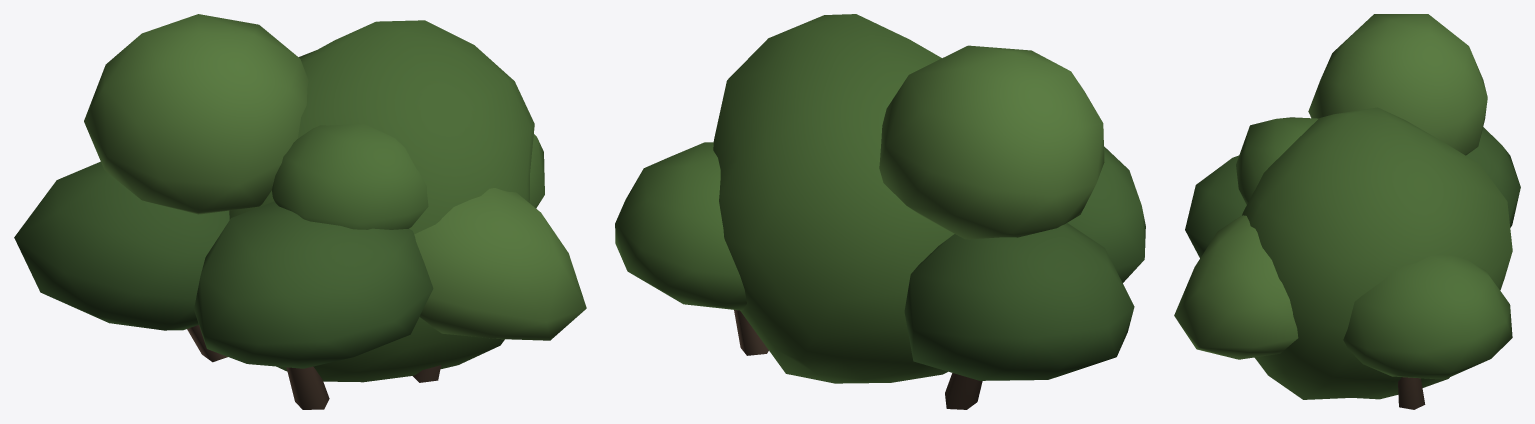
File: shrub_A.glb
The picture shows the model from 3 angles, left to right: view 1: azimuth 30°, elevation 25°; view 2: azimuth 150°, elevation 25°; view 3: azimuth 270°, elevation 25°; orthographic projection. The views are drawn at different scales.
Parts seen in each view (by area): view 1: shrub_A; view 2: shrub_A; view 3: shrub_A.
Part boxes in pixels (x1,y1,x2,y2): shrub_A: [14, 14, 586, 409]; shrub_A: [615, 14, 1145, 409]; shrub_A: [1174, 14, 1520, 409].
Bounding box in the file's own units: 1.43 × 0.9311 × 1.02.
